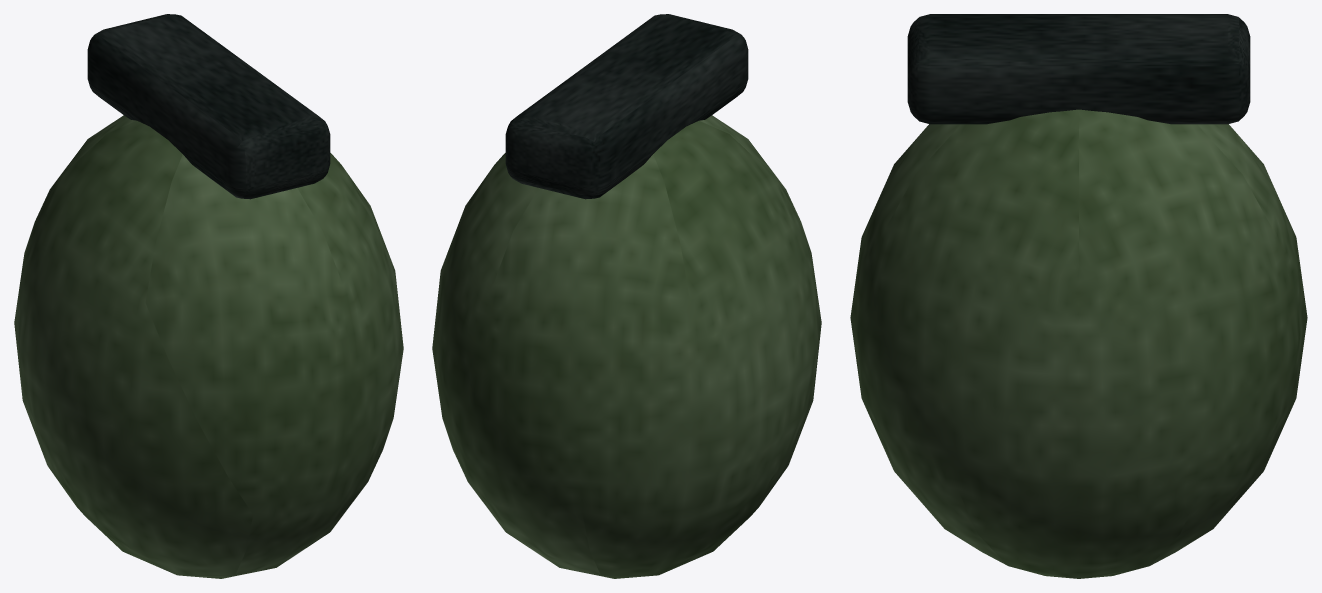
File: weapon_throwBomb.glb
The picture shows the model from 3 angles, left to right: view 1: azimuth 30°, elevation 25°; view 2: azimuth 150°, elevation 25°; view 3: azimuth 270°, elevation 25°; orthographic projection. The views are drawn at different scales.
Parts seen in each view (by area): view 1: Grenade body, Safety lever; view 2: Grenade body, Safety lever; view 3: Grenade body, Safety lever.
Part boxes in pixels (x1=…): Grenade body: x1=14, y1=115, x2=403, y2=578; Safety lever: x1=87, y1=14, x2=330, y2=199; Grenade body: x1=432, y1=115, x2=821, y2=578; Safety lever: x1=505, y1=14, x2=748, y2=199; Grenade body: x1=850, y1=109, x2=1307, y2=578; Safety lever: x1=907, y1=14, x2=1250, y2=124.
Bounding box in the file's own units: 0.18 × 0.2575 × 0.2.
2 materials, 2 textured.
